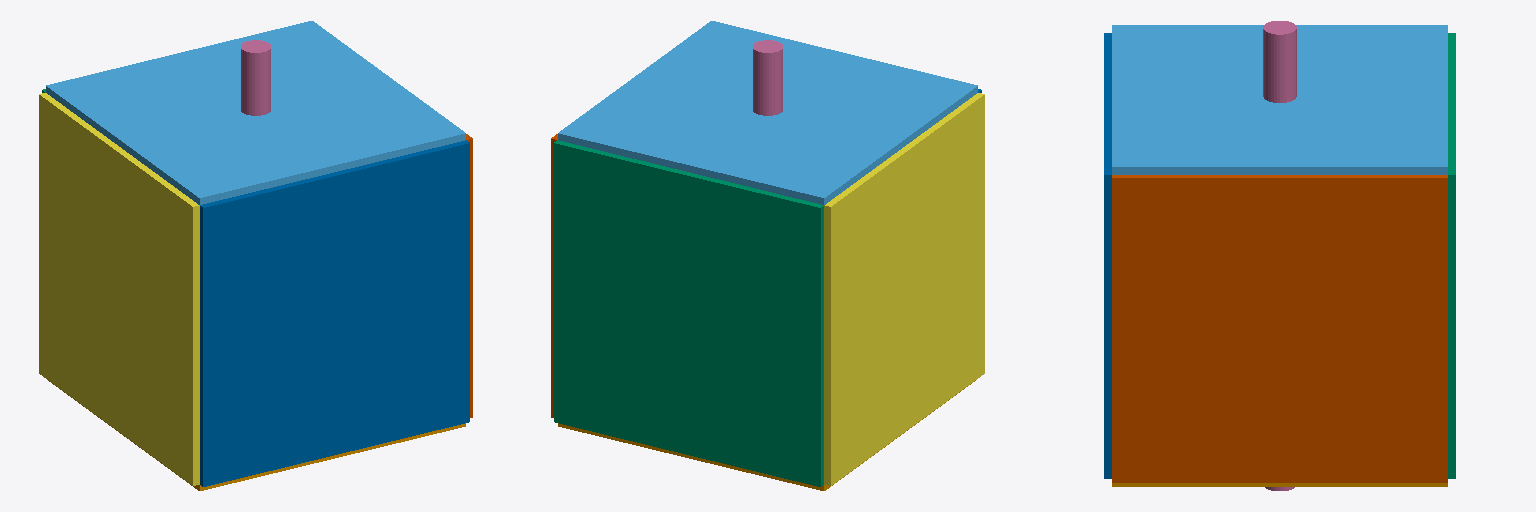
URDF robot description (box):
<?xml version="1.0"?>
<robot name="box">
	<link name="base_link">
		<visual>
			<geometry>
				<box size="1 1 0.05"/>
			</geometry>
			<origin xyz="0 0 0" rpy="0 0 0"/>
		</visual>
	</link>
	
	<link name="top_link">
	<visual>
		<geometry>
			<box size="1 1 0.05"/>
		</geometry>
		<origin xyz="0.5 0 0" rpy="0 0 0"/>
	</visual>
</link>
	
	<joint name="top_to_back" type="revolute">
  <axis rpy="0 0 0" xyz="0 -1 0"/>
  <parent link="back_link"/>
  <child link="top_link"/>
  <limit effort="1000.0" lower="0" upper="1.57" velocity="0.5"/>
  <origin rpy="0 0 0" xyz="0 0 1"/>
</joint>
  
  <link name="right_link">
	<visual>
		<geometry>
			<box size="1 1 0.05"/>
		</geometry>
		<origin xyz="0 0 0.5" rpy="1.5708 0 0"/>
	</visual>
</link>

<joint name="right_to_bottom" type="fixed">
  	<parent link="base_link"/>
  	<child link="right_link"/>
  	<origin rpy="0 0 0" xyz="0 0.5 0"/>
</joint>

<link name="back_link">
	<visual>
		<geometry>
			<box size="1 1 0.05"/>
		</geometry>
		<origin xyz="0 0 0.5" rpy="1.5708 0 1.5708"/>
	</visual>
</link>

<joint name="back_to_bottom" type="fixed">
	<parent link="base_link"/>
	<child link="back_link"/>
	<origin rpy="0 0 0" xyz="-0.5 0 0"/>
</joint>

<link name="left_link">
	<visual>
		<geometry>
			<box size="1 1 0.05"/>
		</geometry>
		<origin xyz="0 0 0.5" rpy="1.5708 0 0"/>
	</visual>
</link>

<joint name="left_to_bottom" type="fixed">
	<parent link="base_link"/>
	<child link="left_link"/>
	<origin rpy="0 0 0" xyz="0 -0.5 0"/>
</joint>

<link name="front_link">
	<visual>
		<geometry>
			<box size="1 1 0.05"/>
		</geometry>
		<origin xyz="0 0 0.5" rpy="1.5708 0 1.5708"/>
	</visual>
</link>

<joint name="front_to_bottom" type="fixed">
	<parent link="base_link"/>
	<child link="front_link"/>
	<origin rpy="0 0 0" xyz="0.5 0 0"/>
</joint>

<link name="stick_link">
		<visual>
			<geometry>
				<cylinder radius="0.05" length="1.5"/>
			</geometry>
			<origin xyz="0 0 0" rpy="0 0 0"/>
		</visual>
	</link>

	<joint name="stick_to_base" type="fixed">
		<parent link="base_link"/>
		<child link="stick_link"/>
		<origin rpy="0 0 0" xyz="0 0 0.5"/>
	</joint>


</robot>

--- What the picture shows (computed from the rendered views, not written in the file) ---
The picture shows the robot from 3 angles, left to right: view 1: azimuth 30°, elevation 25°; view 2: azimuth 150°, elevation 25°; view 3: azimuth 270°, elevation 25°; orthographic projection.
Model box with 7 links and 6 joints (1 revolute, 5 fixed), rooted at base_link, posed all joints at 0.
Links seen in each view (by area): view 1: left_link, back_link, top_link, stick_link, base_link, front_link; view 2: right_link, back_link, top_link, stick_link, base_link, front_link; view 3: front_link, top_link, right_link, left_link, stick_link, base_link.
Boxes of the visible links, left/top/right/bottom form: left_link: left=200, top=140, right=469, bottom=486; back_link: left=39, top=93, right=199, bottom=485; top_link: left=46, top=21, right=465, bottom=204; stick_link: left=241, top=40, right=270, bottom=115; base_link: left=48, top=380, right=465, bottom=490; front_link: left=466, top=134, right=472, bottom=417; right_link: left=554, top=140, right=823, bottom=486; back_link: left=824, top=93, right=984, bottom=485; top_link: left=558, top=21, right=977, bottom=204; stick_link: left=753, top=40, right=782, bottom=115; base_link: left=558, top=380, right=975, bottom=490; front_link: left=551, top=134, right=557, bottom=417; front_link: left=1112, top=175, right=1447, bottom=482; top_link: left=1112, top=25, right=1447, bottom=174; right_link: left=1448, top=33, right=1455, bottom=478; left_link: left=1104, top=33, right=1111, bottom=478; stick_link: left=1263, top=21, right=1296, bottom=490; base_link: left=1112, top=483, right=1447, bottom=486.
Bounding box of the posed robot: 1.05 × 1.05 × 1.5 m (x, y, z).
Geometry: primitives only (box / cylinder / sphere), no mesh files.
